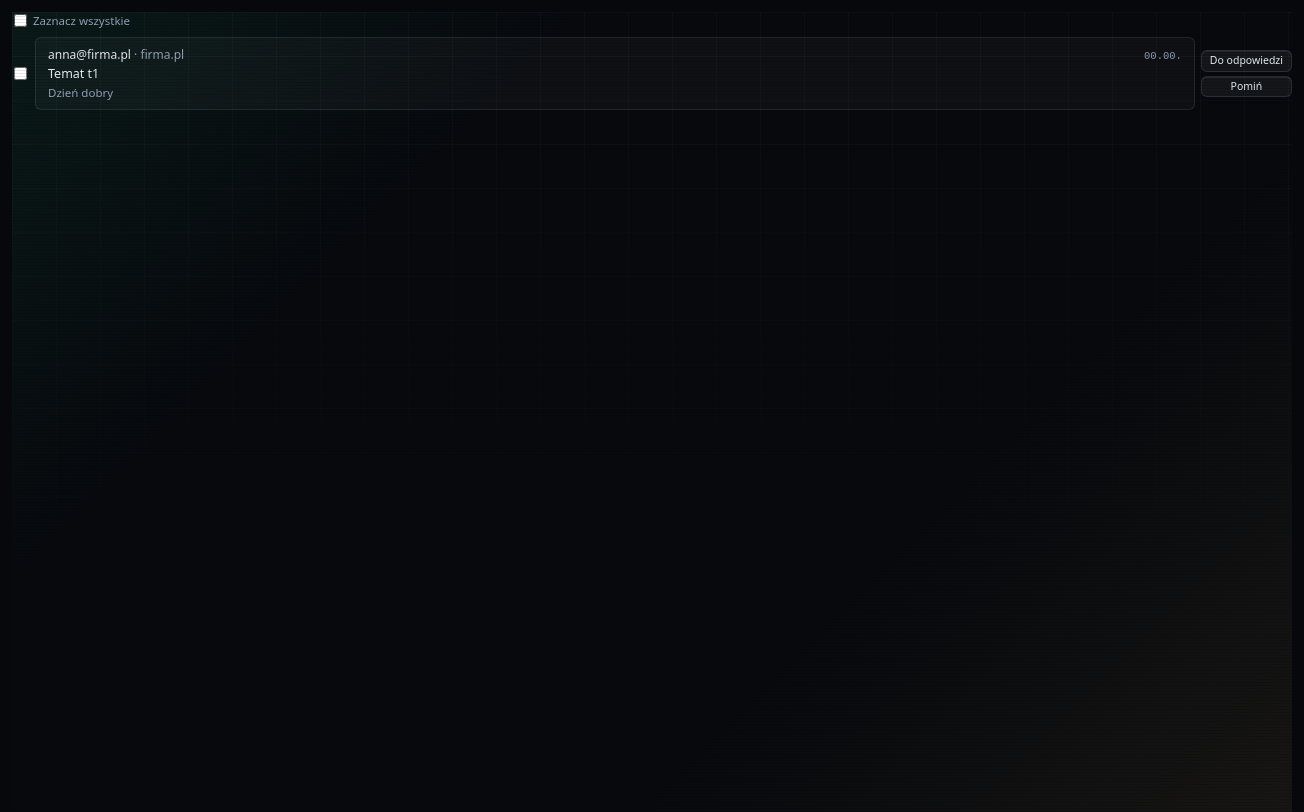
it: ListaSpraw - Do przejrzenia i błędy › zbiorcze akcje bez obecnej zakładki; błąd serwera - sprawy zostają
Click the checkbox named "Zaznacz: Temat t1" at (20, 74), box top-left (14, 67), bottom-right (27, 80)
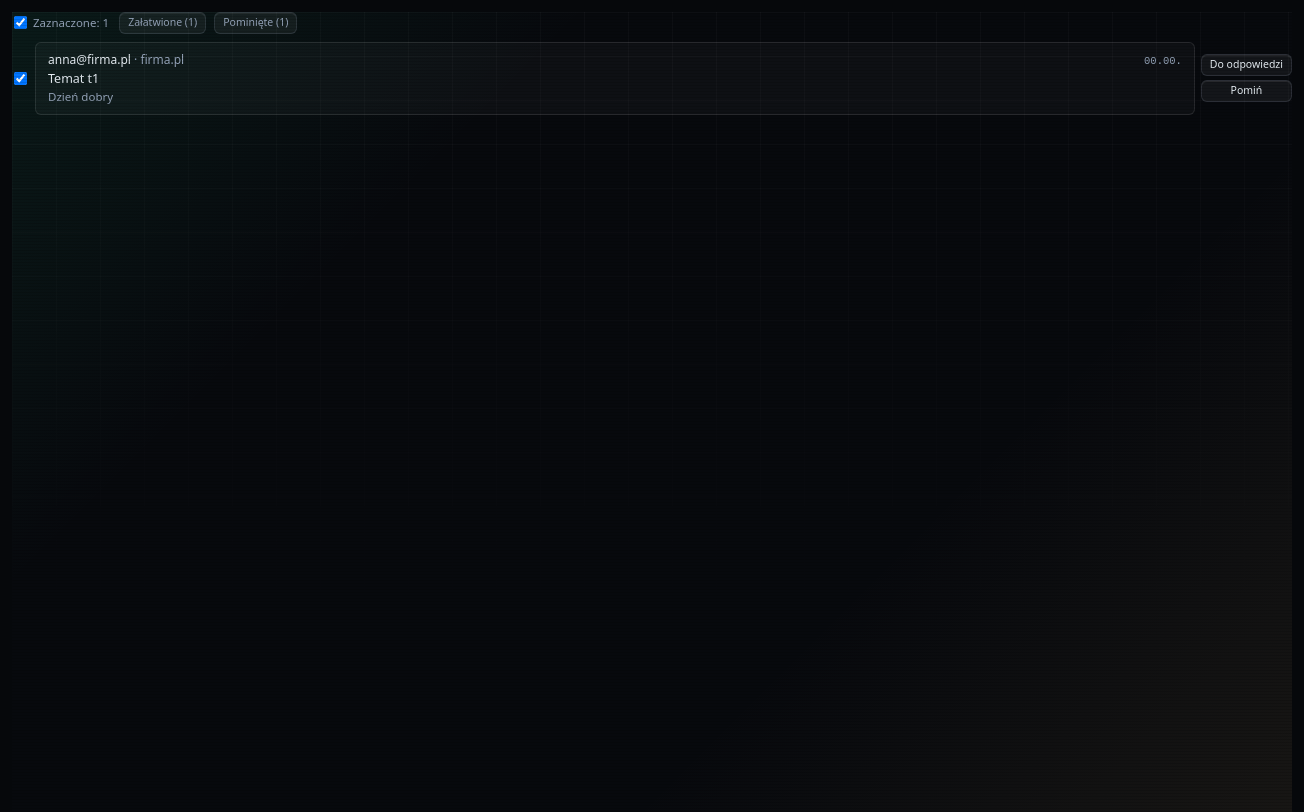
Now the button "Pominięte (1)" is shown, box top-left (214, 12), bottom-right (297, 34)
Click the button "Załatwione (1)" at (163, 23), box top-left (119, 12), bottom-right (206, 34)
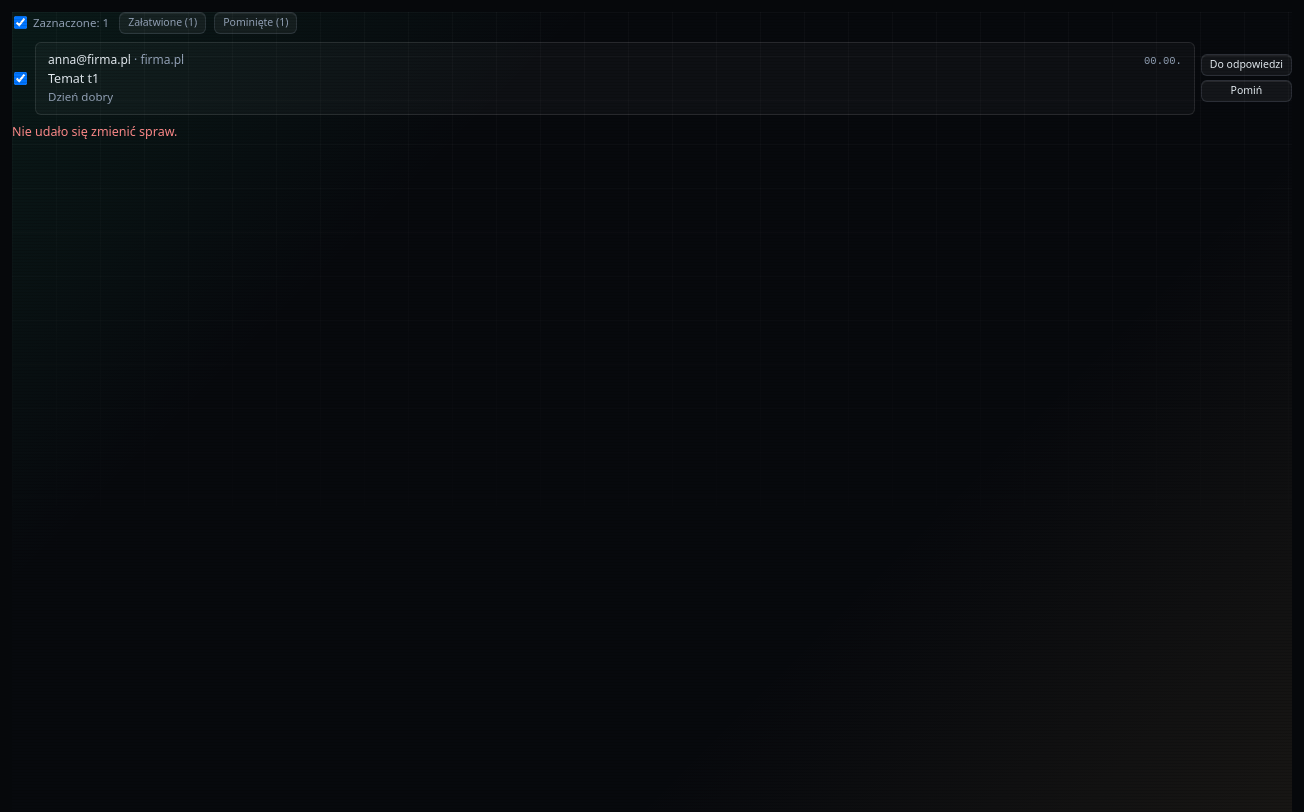
Expected: the text "Temat t1" is shown, top-left (48, 70), bottom-right (99, 86)
Now the message reads "Nie udało się zmienić spraw.", box top-left (12, 122), bottom-right (177, 140)
